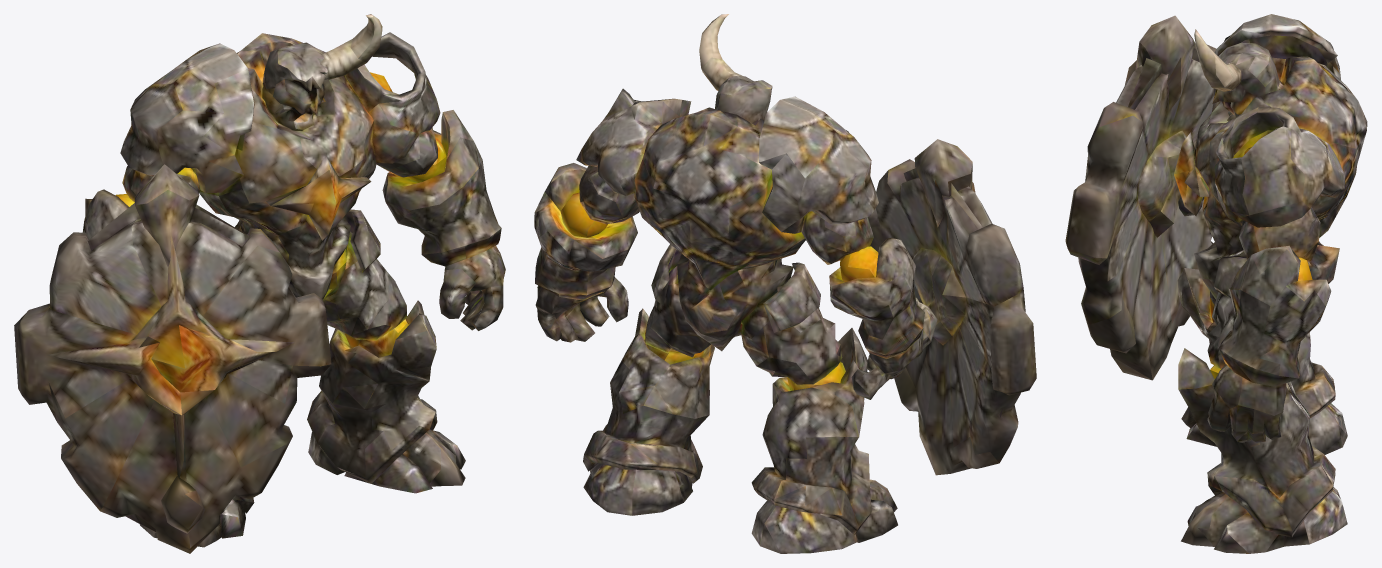
File: horned_warden.glb
3 renders of one model, left to right at view 1: azimuth 30°, elevation 25°; view 2: azimuth 150°, elevation 25°; view 3: azimuth 270°, elevation 25°, orthographic. The views are drawn at different scales.
Bounding box in the file's own units: 1.9 × 1.78 × 1.03.
1 material, 1 textured.
